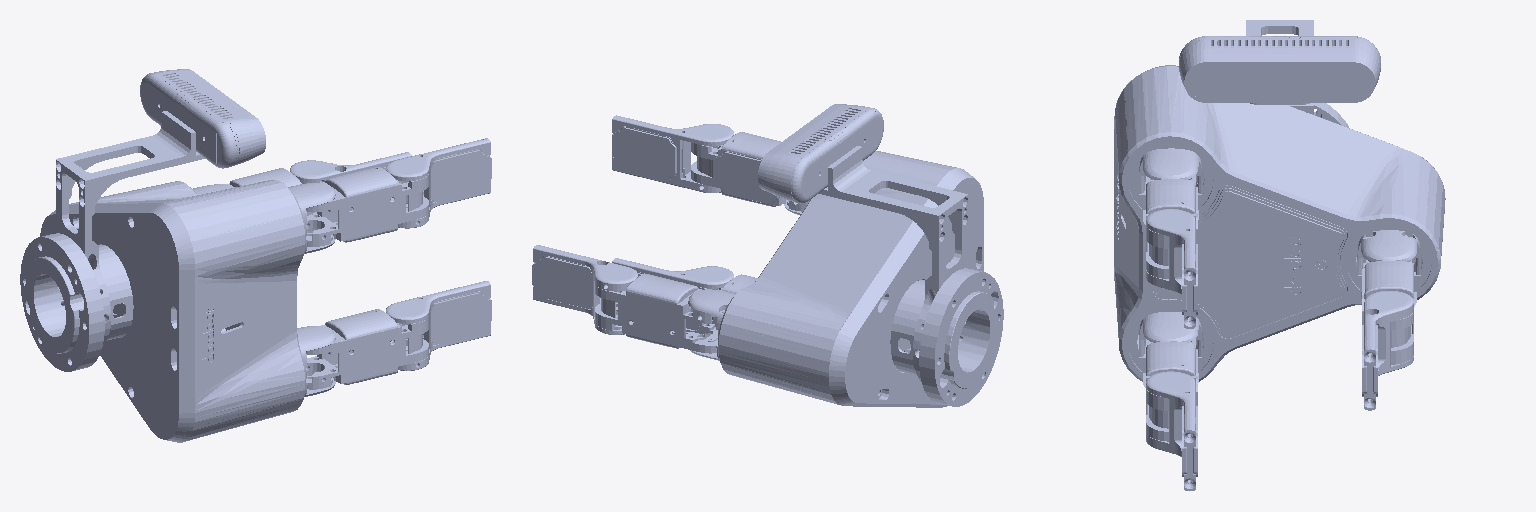
The robot description file, URDF, robot "dorahand_3f":
<?xml version="1.0" encoding="utf-8"?>
<!-- This URDF was automatically created by SolidWorks to URDF Exporter! Originally created by [author] ([email redacted]) 
     Commit Version: 1.5.1-0-g916b5db  Build Version: 1.5.7152.31018
     For more information, please see http://wiki.ros.org/sw_urdf_exporter -->
<robot
  name="dorahand_3f">
  <link
    name="base_link">
    <inertial>
      <origin
        xyz="0.0672813969662091 -0.00768356734881204 0.0187166228013696"
        rpy="0 0 0" />
      <mass
        value="0.24290765562894" />
      <inertia
        ixx="0.000485374037789049"
        ixy="9.31561310575612E-07"
        ixz="-2.29257203392714E-07"
        iyy="0.000227060332879335"
        iyz="5.35019929742971E-07"
        izz="0.000349867933471234" />
    </inertial>
    <visual>
      <origin
        xyz="0 0 0"
        rpy="0 0 0" />
      <geometry>
        <mesh
          filename="package://dorahand_3f/meshes/base_link.STL" />
      </geometry>
      <material
        name="">
        <color
          rgba="0.792156862745098 0.819607843137255 0.933333333333333 1" />
      </material>
    </visual>
    <collision>
      <origin
        xyz="0 0 0"
        rpy="0 0 0" />
      <geometry>
        <mesh
          filename="package://dorahand_3f/meshes/base_link.STL" />
      </geometry>
    </collision>
  </link>
  <link
    name="finger_left_back_link">
    <inertial>
      <origin
        xyz="0.00019483352178247 -0.000419440597627267 0.0255853770396552"
        rpy="0 0 0" />
      <mass
        value="0.0128902687777299" />
      <inertia
        ixx="2.04256915191886E-06"
        ixy="-2.35569386608482E-10"
        ixz="2.18230149240897E-08"
        iyy="2.24144374524628E-06"
        iyz="3.79030764132303E-08"
        izz="1.28682240367971E-06" />
    </inertial>
    <visual>
      <origin
        xyz="0 0 0"
        rpy="0 0 0" />
      <geometry>
        <mesh
          filename="package://dorahand_3f/meshes/finger_left_back_link.STL" />
      </geometry>
      <material
        name="">
        <color
          rgba="0.792156862745098 0.819607843137255 0.933333333333333 1" />
      </material>
    </visual>
    <collision>
      <origin
        xyz="0 0 0"
        rpy="0 0 0" />
      <geometry>
        <mesh
          filename="package://dorahand_3f/meshes/finger_left_back_link.STL" />
      </geometry>
    </collision>
  </link>
  <joint
    name="finger_left_back_joint"
    type="revolute">
    <origin
      xyz="0.0658 -0.0485 0.04"
      rpy="-1.5708 0 -1.5708" />
    <parent
      link="base_link" />
    <child
      link="finger_left_back_link" />
    <axis
      xyz="0 0 -1" />
    <limit
      lower="-1.5708"
      upper="1.5708"
      effort="0"
      velocity="0" />
  </joint>
  <link
    name="finger_left_middle_link">
    <inertial>
      <origin
        xyz="-0.00150966280924338 -0.0285892179658439 -0.000301559535769803"
        rpy="0 0 0" />
      <mass
        value="0.00938838672846468" />
      <inertia
        ixx="4.17372164352362E-06"
        ixy="3.10407897337656E-08"
        ixz="-5.89942743314402E-09"
        iyy="5.7956092849583E-07"
        iyz="6.05008829422796E-08"
        izz="4.38626834146392E-06" />
    </inertial>
    <visual>
      <origin
        xyz="0 0 0"
        rpy="0 0 0" />
      <geometry>
        <mesh
          filename="package://dorahand_3f/meshes/finger_left_middle_link.STL" />
      </geometry>
      <material
        name="">
        <color
          rgba="0.792156862745098 0.819607843137255 0.933333333333333 1" />
      </material>
    </visual>
    <collision>
      <origin
        xyz="0 0 0"
        rpy="0 0 0" />
      <geometry>
        <mesh
          filename="package://dorahand_3f/meshes/finger_left_middle_link.STL" />
      </geometry>
    </collision>
  </link>
  <joint
    name="finger_left_middle_joint"
    type="revolute">
    <origin
      xyz="0 0 0.06025"
      rpy="-1.5707963267949 0 0" />
    <parent
      link="finger_left_back_link" />
    <child
      link="finger_left_middle_link" />
    <axis
      xyz="0 0 -1" />
    <limit
      lower="-1.5708"
      upper="1.5708"
      effort="0"
      velocity="0" />
  </joint>
  <link
    name="finger_left_front_link">
    <inertial>
      <origin
        xyz="-0.00592136016421135 -0.0222424596192618 0.000855058948252232"
        rpy="0 0 0" />
      <mass
        value="0.0074701176810846" />
      <inertia
        ixx="1.42587170186682E-06"
        ixy="-1.74359236069128E-07"
        ixz="1.3857511122677E-09"
        iyy="3.29102027915589E-07"
        iyz="3.24784196535601E-09"
        izz="1.35794289524286E-06" />
    </inertial>
    <visual>
      <origin
        xyz="0 0 0"
        rpy="0 0 0" />
      <geometry>
        <mesh
          filename="package://dorahand_3f/meshes/finger_left_front_link.STL" />
      </geometry>
      <material
        name="">
        <color
          rgba="0.792156862745098 0.819607843137255 0.933333333333333 1" />
      </material>
    </visual>
    <collision>
      <origin
        xyz="0 0 0"
        rpy="0 0 0" />
      <geometry>
        <mesh
          filename="package://dorahand_3f/meshes/finger_left_front_link.STL" />
      </geometry>
    </collision>
  </link>
  <joint
    name="finger_left_front_joint"
    type="revolute">
    <origin
      xyz="0 -0.055 0"
      rpy="0 0 0" />
    <parent
      link="finger_left_middle_link" />
    <child
      link="finger_left_front_link" />
    <axis
      xyz="0 0 -1" />
    <limit
      lower="-1.5708"
      upper="1.5708"
      effort="0"
      velocity="0" />
  </joint>
  <link
    name="finger_right_back_link">
    <inertial>
      <origin
        xyz="-0.000194833521932461 0.000419440596747304 0.0255853770427804"
        rpy="0 0 0" />
      <mass
        value="0.0128902687789084" />
      <inertia
        ixx="2.04256915214369E-06"
        ixy="-2.35569381481368E-10"
        ixz="-2.18230148748549E-08"
        iyy="2.24144374551552E-06"
        iyz="-3.79030763870544E-08"
        izz="1.28682240373217E-06" />
    </inertial>
    <visual>
      <origin
        xyz="0 0 0"
        rpy="0 0 0" />
      <geometry>
        <mesh
          filename="package://dorahand_3f/meshes/finger_right_back_link.STL" />
      </geometry>
      <material
        name="">
        <color
          rgba="0.792156862745098 0.819607843137255 0.933333333333333 1" />
      </material>
    </visual>
    <collision>
      <origin
        xyz="0 0 0"
        rpy="0 0 0" />
      <geometry>
        <mesh
          filename="package://dorahand_3f/meshes/finger_right_back_link.STL" />
      </geometry>
    </collision>
  </link>
  <joint
    name="finger_right_back_joint"
    type="revolute">
    <origin
      xyz="0.0658000000000001 -0.0484999999999942 -0.0400000005780693"
      rpy="1.57079632679489 0 1.5707963267949" />
    <parent
      link="base_link" />
    <child
      link="finger_right_back_link" />
    <axis
      xyz="0 0 1" />
    <limit
      lower="-1.5708"
      upper="1.5708"
      effort="0"
      velocity="0" />
  </joint>
  <link
    name="finger_right_middle_link">
    <inertial>
      <origin
        xyz="-0.00150966146005244 -0.0285892169911503 -0.00070156077883083"
        rpy="0 0 0" />
      <mass
        value="0.00938838751621504" />
      <inertia
        ixx="4.1737218432932E-06"
        ixy="3.10406336164334E-08"
        ixz="-5.89942209216765E-09"
        iyy="5.79560973474594E-07"
        iyz="6.05008875816039E-08"
        izz="4.38626858675117E-06" />
    </inertial>
    <visual>
      <origin
        xyz="0 0 0"
        rpy="0 0 0" />
      <geometry>
        <mesh
          filename="package://dorahand_3f/meshes/finger_right_middle_link.STL" />
      </geometry>
      <material
        name="">
        <color
          rgba="0.792156862745098 0.819607843137255 0.933333333333333 1" />
      </material>
    </visual>
    <collision>
      <origin
        xyz="0 0 0"
        rpy="0 0 0" />
      <geometry>
        <mesh
          filename="package://dorahand_3f/meshes/finger_right_middle_link.STL" />
      </geometry>
    </collision>
  </link>
  <joint
    name="finger_right_middle_joint"
    type="revolute">
    <origin
      xyz="0 0 0.06025"
      rpy="-1.5707963267949 0 3.14159265358979" />
    <parent
      link="finger_right_back_link" />
    <child
      link="finger_right_middle_link" />
    <axis
      xyz="0 0 -1" />
    <limit
      lower="-1.5708"
      upper="1.5708"
      effort="0"
      velocity="0" />
  </joint>
  <link
    name="finger_right_front_link">
    <inertial>
      <origin
        xyz="-0.00592136016418708 -0.0222424596193247 0.000455058948168663"
        rpy="0 0 0" />
      <mass
        value="0.00747011768113183" />
      <inertia
        ixx="1.42587170186701E-06"
        ixy="-1.74359236068841E-07"
        ixz="1.38575111224629E-09"
        iyy="3.29102027916696E-07"
        iyz="3.24784196543285E-09"
        izz="1.35794289524404E-06" />
    </inertial>
    <visual>
      <origin
        xyz="0 0 0"
        rpy="0 0 0" />
      <geometry>
        <mesh
          filename="package://dorahand_3f/meshes/finger_right_front_link.STL" />
      </geometry>
      <material
        name="">
        <color
          rgba="0.792156862745098 0.819607843137255 0.933333333333333 1" />
      </material>
    </visual>
    <collision>
      <origin
        xyz="0 0 0"
        rpy="0 0 0" />
      <geometry>
        <mesh
          filename="package://dorahand_3f/meshes/finger_right_front_link.STL" />
      </geometry>
    </collision>
  </link>
  <joint
    name="finger_right_front_joint"
    type="revolute">
    <origin
      xyz="0 -0.055 0"
      rpy="0 0 0" />
    <parent
      link="finger_right_middle_link" />
    <child
      link="finger_right_front_link" />
    <axis
      xyz="0 0 -1" />
    <limit
      lower="-1.5708"
      upper="1.5708"
      effort="0"
      velocity="0" />
  </joint>
  <link
    name="finger_middle_back_link">
    <inertial>
      <origin
        xyz="-0.000194833997355502 0.000419436995211427 0.0255853701766141"
        rpy="0 0 0" />
      <mass
        value="0.012890265520984" />
      <inertia
        ixx="2.0425689867734E-06"
        ixy="-2.35571463557394E-10"
        ixz="-2.18229934972707E-08"
        iyy="2.24144377873853E-06"
        iyz="-3.79030113681871E-08"
        izz="1.28682249558977E-06" />
    </inertial>
    <visual>
      <origin
        xyz="0 0 0"
        rpy="0 0 0" />
      <geometry>
        <mesh
          filename="package://dorahand_3f/meshes/finger_middle_back_link.STL" />
      </geometry>
      <material
        name="">
        <color
          rgba="0.792156862745098 0.819607843137255 0.933333333333333 1" />
      </material>
    </visual>
    <collision>
      <origin
        xyz="0 0 0"
        rpy="0 0 0" />
      <geometry>
        <mesh
          filename="package://dorahand_3f/meshes/finger_middle_back_link.STL" />
      </geometry>
    </collision>
  </link>
  <joint
    name="finger_middle_back_joint"
    type="fixed">
    <origin
      xyz="0.0658 0.0485000000000115 0"
      rpy="-1.57079632679489 0 -1.5707963267949" />
    <parent
      link="base_link" />
    <child
      link="finger_middle_back_link" />
    <axis
      xyz="0 0 0" />
    <limit
      lower="-1.5708"
      upper="1.5708"
      effort="0"
      velocity="0" />
  </joint>
  <link
    name="finger_middle_middle_link">
    <inertial>
      <origin
        xyz="-0.00150979108016121 0.0285890700545292 0.000301729931564307"
        rpy="0 0 0" />
      <mass
        value="0.00938825949148075" />
      <inertia
        ixx="4.17369565406504E-06"
        ixy="-3.10277422459172E-08"
        ixz="5.89605554453313E-09"
        iyy="5.79552540822107E-07"
        iyz="6.04947010219042E-08"
        izz="4.38623686379646E-06" />
    </inertial>
    <visual>
      <origin
        xyz="0 0 0"
        rpy="0 0 0" />
      <geometry>
        <mesh
          filename="package://dorahand_3f/meshes/finger_middle_middle_link.STL" />
      </geometry>
      <material
        name="">
        <color
          rgba="0.792156862745098 0.819607843137255 0.933333333333333 1" />
      </material>
    </visual>
    <collision>
      <origin
        xyz="0 0 0"
        rpy="0 0 0" />
      <geometry>
        <mesh
          filename="package://dorahand_3f/meshes/finger_middle_middle_link.STL" />
      </geometry>
    </collision>
  </link>
  <joint
    name="finger_middle_middle_joint"
    type="revolute">
    <origin
      xyz="0 0 0.06025"
      rpy="1.5707963267949 0 3.14159265358979" />
    <parent
      link="finger_middle_back_link" />
    <child
      link="finger_middle_middle_link" />
    <axis
      xyz="0 0 1" />
    <limit
      lower="-1.5708"
      upper="1.5708"
      effort="0"
      velocity="0" />
  </joint>
  <link
    name="finger_middle_front_link">
    <inertial>
      <origin
        xyz="0.00592136034733081 -0.022242462437103 -0.000855059709843302"
        rpy="0 0 0" />
      <mass
        value="0.00747011723813315" />
      <inertia
        ixx="1.4258720066274E-06"
        ixy="1.74359302544949E-07"
        ixz="1.38575179648268E-09"
        iyy="3.29102005090482E-07"
        iyz="-3.24785673718493E-09"
        izz="1.3579431792442E-06" />
    </inertial>
    <visual>
      <origin
        xyz="0 0 0"
        rpy="0 0 0" />
      <geometry>
        <mesh
          filename="package://dorahand_3f/meshes/finger_middle_front_link.STL" />
      </geometry>
      <material
        name="">
        <color
          rgba="0.792156862745098 0.819607843137255 0.933333333333333 1" />
      </material>
    </visual>
    <collision>
      <origin
        xyz="0 0 0"
        rpy="0 0 0" />
      <geometry>
        <mesh
          filename="package://dorahand_3f/meshes/finger_middle_front_link.STL" />
      </geometry>
    </collision>
  </link>
  <joint
    name="finger_middle_front_joint"
    type="revolute">
    <origin
      xyz="0 0.055 0"
      rpy="0 0 -3.14159265358979" />
    <parent
      link="finger_middle_middle_link" />
    <child
      link="finger_middle_front_link" />
    <axis
      xyz="0 0 1" />
    <limit
      lower="-1.5708"
      upper="1.5708"
      effort="0"
      velocity="0" />
  </joint>
</robot>

--- Facts derived from the render (not from the file) ---
3 views of the same robot in one strip: view 1: azimuth 30°, elevation 25°; view 2: azimuth 150°, elevation 25°; view 3: azimuth 270°, elevation 25° (orthographic).
Robot: dorahand_3f — 10 links, 9 joints (8 revolute, 1 fixed); root link base_link; default pose: every joint at zero.
Visible links, largest first — view 1: base_link, finger_left_middle_link, finger_right_middle_link, finger_right_front_link, finger_left_front_link, finger_middle_front_link, finger_left_back_link, finger_right_back_link, finger_middle_middle_link; view 2: base_link, finger_middle_middle_link, finger_left_front_link, finger_middle_front_link, finger_left_middle_link, finger_right_front_link, finger_middle_back_link; view 3: base_link, finger_left_front_link, finger_right_front_link, finger_middle_front_link, finger_left_middle_link, finger_right_middle_link, finger_middle_middle_link, finger_left_back_link, finger_middle_back_link, finger_right_back_link.
Link boxes in pixels (<box>): base_link: <box>20,69,305,442</box>; finger_left_middle_link: <box>306,167,428,246</box>; finger_right_middle_link: <box>306,309,428,388</box>; finger_right_front_link: <box>386,281,491,370</box>; finger_left_front_link: <box>386,138,491,228</box>; finger_middle_front_link: <box>290,152,411,183</box>; finger_left_back_link: <box>288,183,335,253</box>; finger_right_back_link: <box>297,326,335,396</box>; finger_middle_middle_link: <box>225,168,316,215</box>; base_link: <box>718,104,1003,407</box>; finger_middle_middle_link: <box>595,274,717,353</box>; finger_left_front_link: <box>612,115,733,192</box>; finger_middle_front_link: <box>532,245,637,334</box>; finger_left_middle_link: <box>691,132,809,211</box>; finger_right_front_link: <box>612,258,733,288</box>; finger_middle_back_link: <box>688,289,735,360</box>; base_link: <box>1114,20,1445,381</box>; finger_left_front_link: <box>1146,209,1197,328</box>; finger_right_front_link: <box>1146,371,1197,490</box>; finger_middle_front_link: <box>1362,291,1413,410</box>; finger_left_middle_link: <box>1146,175,1197,278</box>; finger_right_middle_link: <box>1146,339,1197,441</box>; finger_middle_middle_link: <box>1362,258,1413,364</box>; finger_left_back_link: <box>1139,148,1202,224</box>; finger_middle_back_link: <box>1357,230,1420,306</box>; finger_right_back_link: <box>1139,312,1202,387</box>.
Size in the robot's own frame: 0.2333 by 0.147 by 0.162 metres.
10 mesh visuals loaded from 10 distinct referenced files (10 binary STL).
